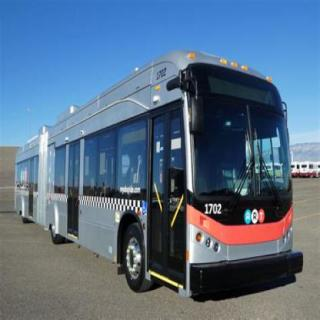Normal_vehicle: (8, 38, 320, 310)
